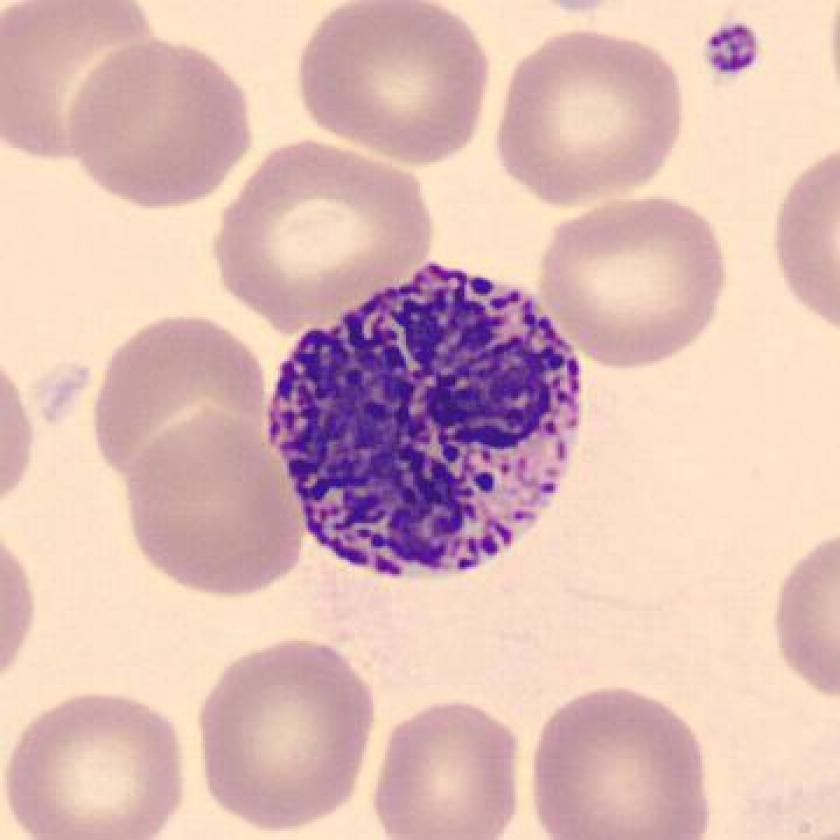basophil: (272, 258, 587, 577)
